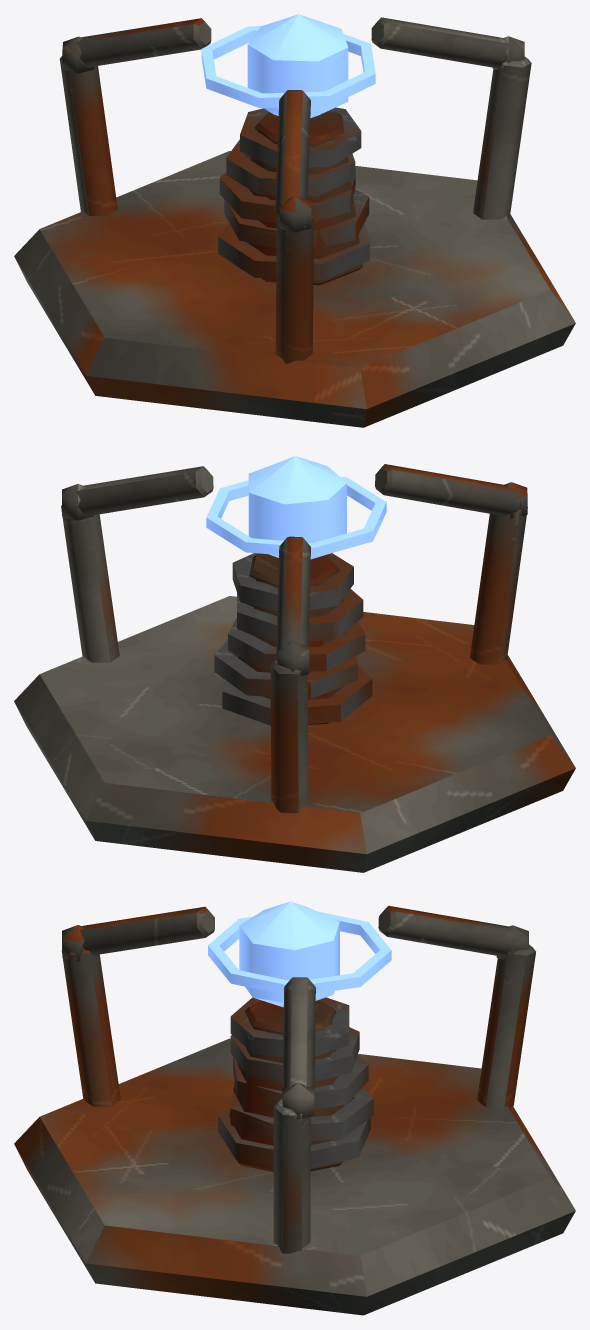
Rendered from R4D_EMPTrap_LOD1.glb.
3 views of the same model, one above another, from view 1: azimuth 30°, elevation 25°; view 2: azimuth 150°, elevation 25°; view 3: azimuth 270°, elevation 25° (orthographic).
Parts seen in each view (by area): view 1: R4D_EMPTrap_LOD1; view 2: R4D_EMPTrap_LOD1; view 3: R4D_EMPTrap_LOD1.
Part boxes in pixels (x1,y1,x2,y2): R4D_EMPTrap_LOD1: [14, 14, 575, 427]; R4D_EMPTrap_LOD1: [14, 456, 575, 872]; R4D_EMPTrap_LOD1: [14, 901, 575, 1315].
Bounding box in the file's own units: 0.4265 × 0.25 × 0.4235.
Materials: 5 (4 with a texture image).
